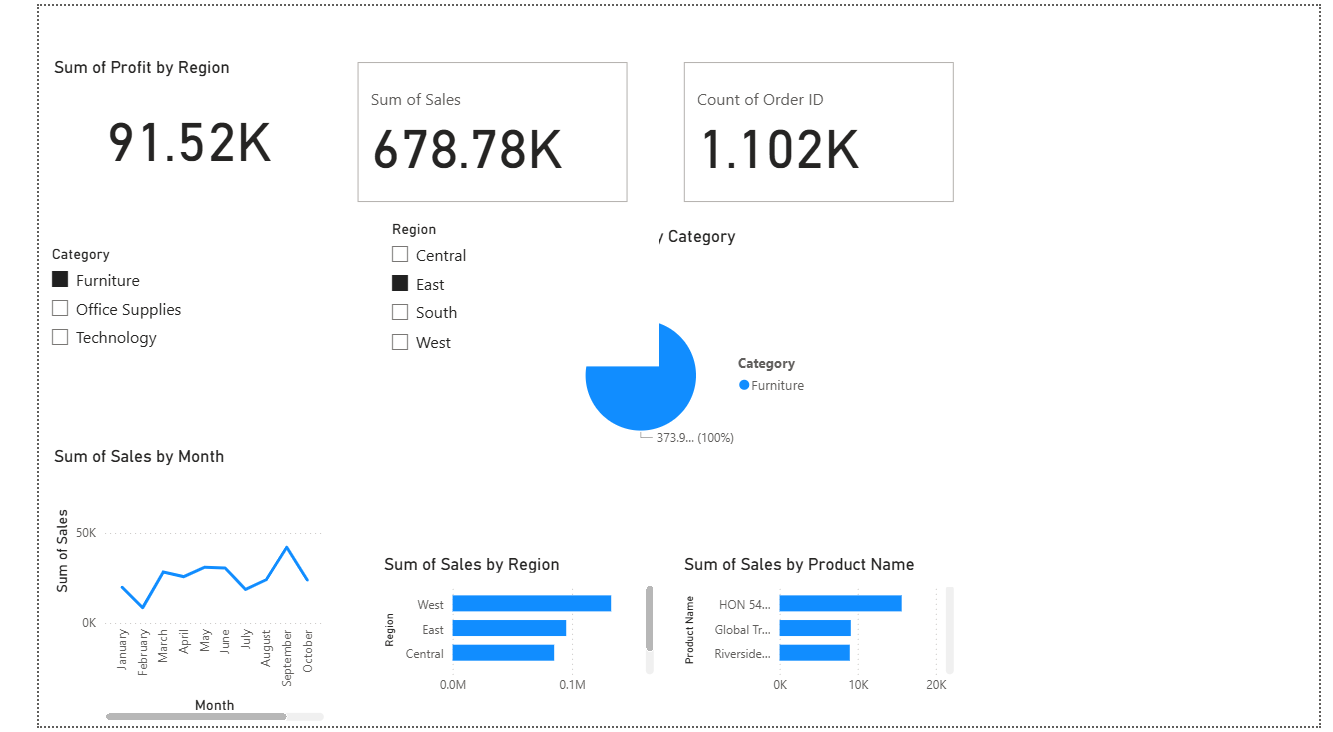

This screenshot's page, from the dashboard's own definition file:
{"tool":"powerbi","page":{"name":"Page 1","canvas":[1280,720],"ordinal":0},"visuals":[{"type":"lineChart","fields":{"Category":["Orders.Order Date.Variation.Date Hierarchy.Year","Orders.Order Date.Variation.Date Hierarchy.Quarter","Orders.Order Date.Variation.Date Hierarchy.Month","Orders.Order Date.Variation.Date Hierarchy.Day"],"Y":["Sum(Orders.Sales)"]},"box":[10,0,280,280],"z":0},{"type":"pieChart","fields":{"Category":["Orders.Category"],"Y":["Sum(Orders.Sales)"]},"box":[10,290,280,280],"z":1},{"type":"clusteredBarChart","fields":{"Category":["Orders.Region"],"Y":["Sum(Orders.Sales)"]},"box":[329,32,280,150],"z":2},{"type":"slicer","fields":{"Values":["Orders.Region"]},"box":[352,420,280,150],"z":4},{"type":"slicer","fields":{"Values":["Orders.Category"]},"box":[339,224,280,150],"z":5}]}

Visuals, with their boxes in screenshot pixels (x1, y1, x2, y2), scaled from the page's 1280x720 canvas onto the 1333x732 screenshot:
lineChart - Orders.Order Date.Variation.Date Hierarchy.Year x Orders.Order Date.Variation.Date Hierarchy.Quarter: Rect(10, 0, 302, 285)
pieChart - Orders.Category x Sum(Orders.Sales): Rect(10, 295, 302, 580)
clusteredBarChart - Orders.Region x Sum(Orders.Sales): Rect(343, 33, 634, 185)
slicer - Orders.Region: Rect(367, 427, 658, 580)
slicer - Orders.Category: Rect(353, 228, 645, 380)
